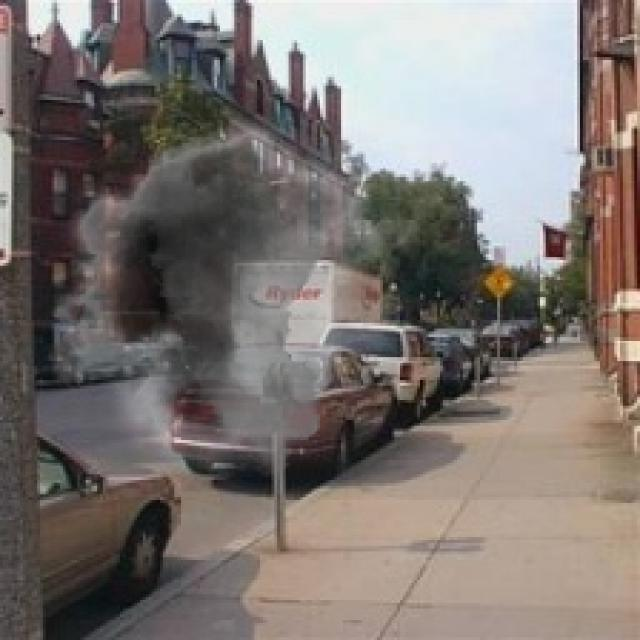Smoke: (31, 102, 426, 478)
